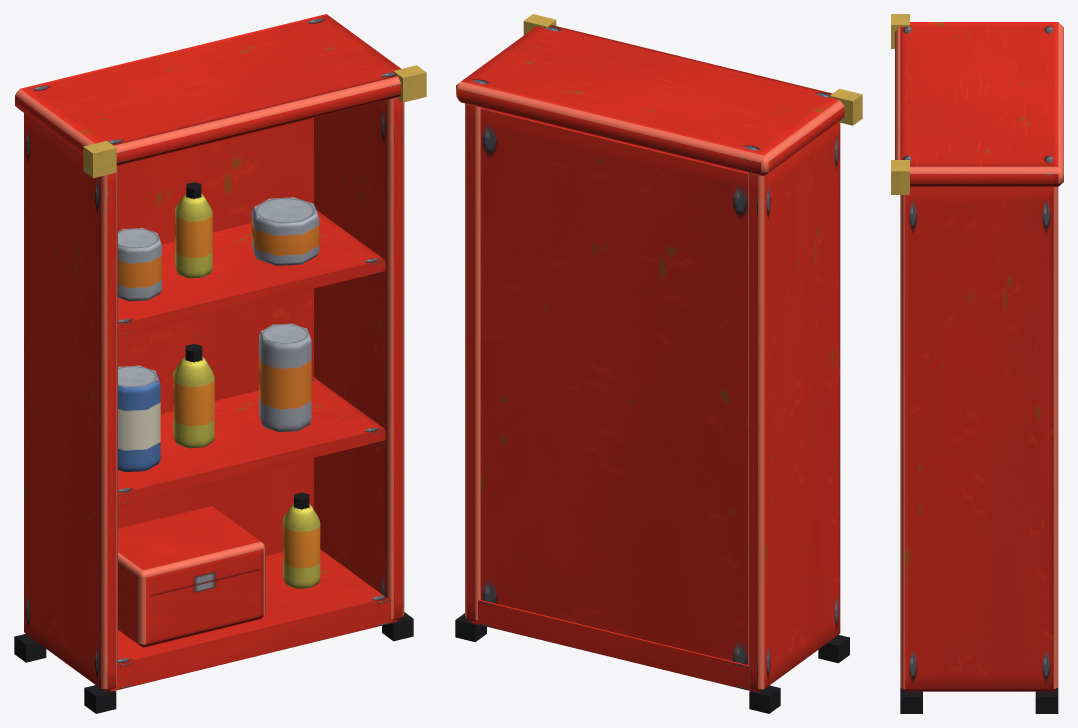
Rendered from Shelf_Red.fbx.
3 renders of one model, left to right at view 1: azimuth 30°, elevation 25°; view 2: azimuth 150°, elevation 25°; view 3: azimuth 270°, elevation 25°, orthographic. The views are drawn at different scales.
Parts seen in each view (by area): view 1: Shelf_Red_Body, Shelf_Red_Items; view 2: Shelf_Red_Body; view 3: Shelf_Red_Body.
Boxes of the visible parts, bbox=[...] form: Shelf_Red_Body: bbox=[14, 14, 426, 713]; Shelf_Red_Items: bbox=[118, 182, 320, 647]; Shelf_Red_Body: bbox=[455, 14, 862, 713]; Shelf_Red_Body: bbox=[891, 14, 1063, 713].
Bounding box in the file's own units: 0.99 × 1.61 × 0.46.
1 material, 1 textured.
